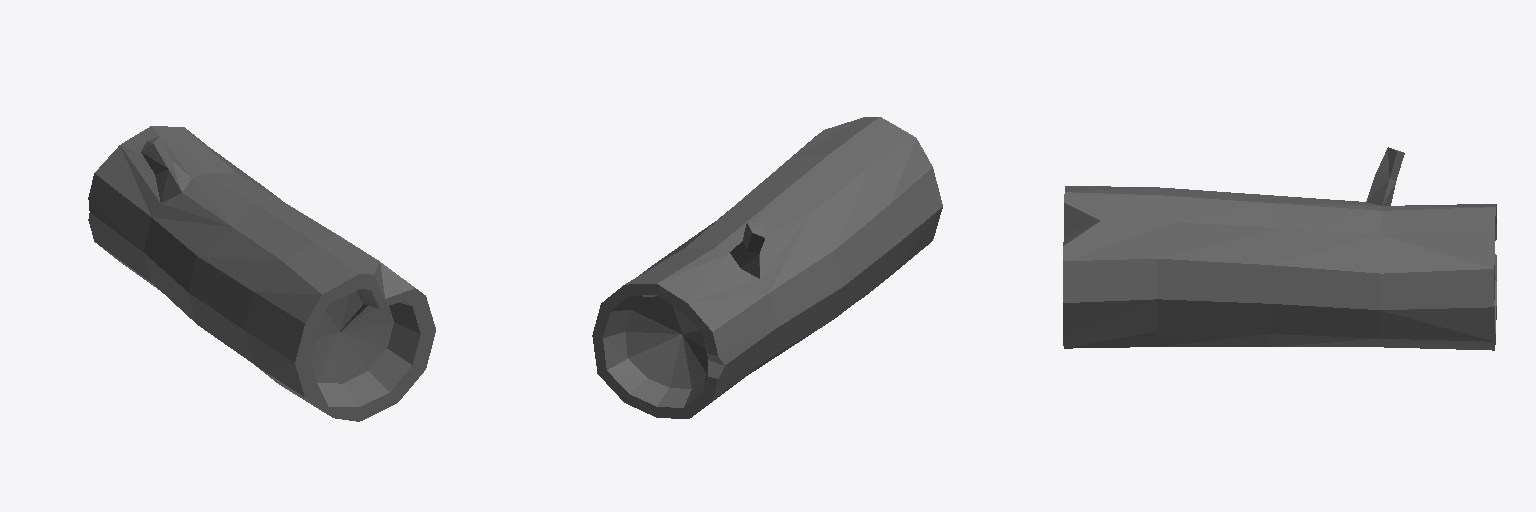
Rendered from Log_1.obj.
3 views of the same model, side by side, from view 1: azimuth 30°, elevation 25°; view 2: azimuth 150°, elevation 25°; view 3: azimuth 270°, elevation 25° (orthographic).
Parts seen in each view (by area): view 1: Cylinder005; view 2: Cylinder005; view 3: Cylinder005.
Boxes of the visible parts, x1,y1,x2,y2 form: Cylinder005: [88, 126, 435, 421]; Cylinder005: [592, 117, 942, 418]; Cylinder005: [1063, 147, 1496, 350].
Size of the model in its own units: 1.53 by 1.76 by 4.02.